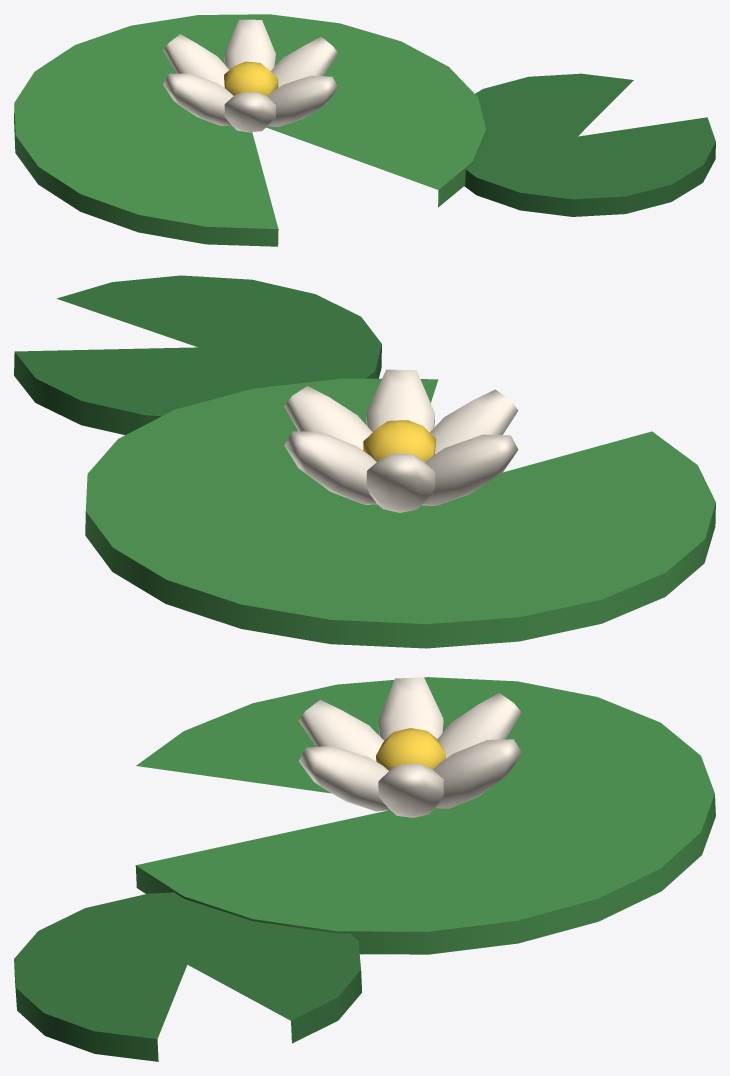
Rendered from Lilypad.glb.
3 renders of one model, top to bottom at view 1: azimuth 30°, elevation 25°; view 2: azimuth 150°, elevation 25°; view 3: azimuth 270°, elevation 25°, orthographic. The views are drawn at different scales.
Visible parts, largest first — view 1: Float; view 2: Float; view 3: Float.
Part boxes in pixels (bbox=[...]): Float: bbox=[14, 14, 715, 246]; Float: bbox=[14, 275, 715, 648]; Float: bbox=[14, 677, 715, 1061].
Bounding box in the file's own units: 3.29 × 0.5446 × 2.79.
1 material, 1 textured.
